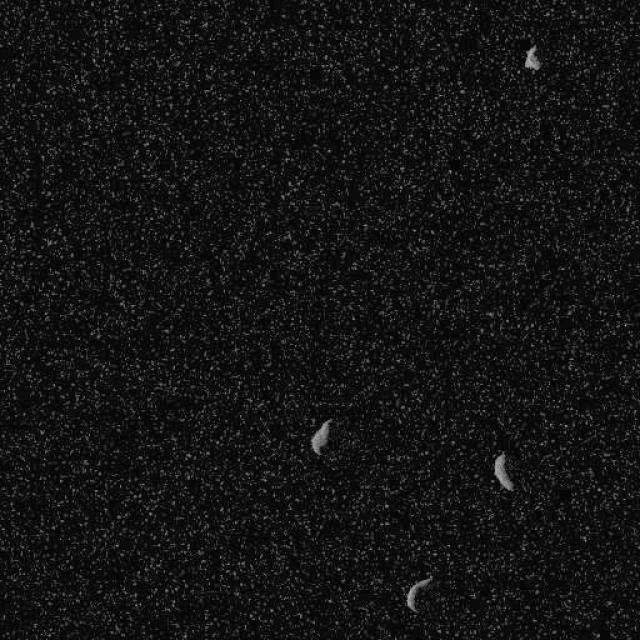D2: (405, 575, 433, 614), (491, 450, 515, 491), (308, 416, 332, 456), (522, 44, 542, 71)
